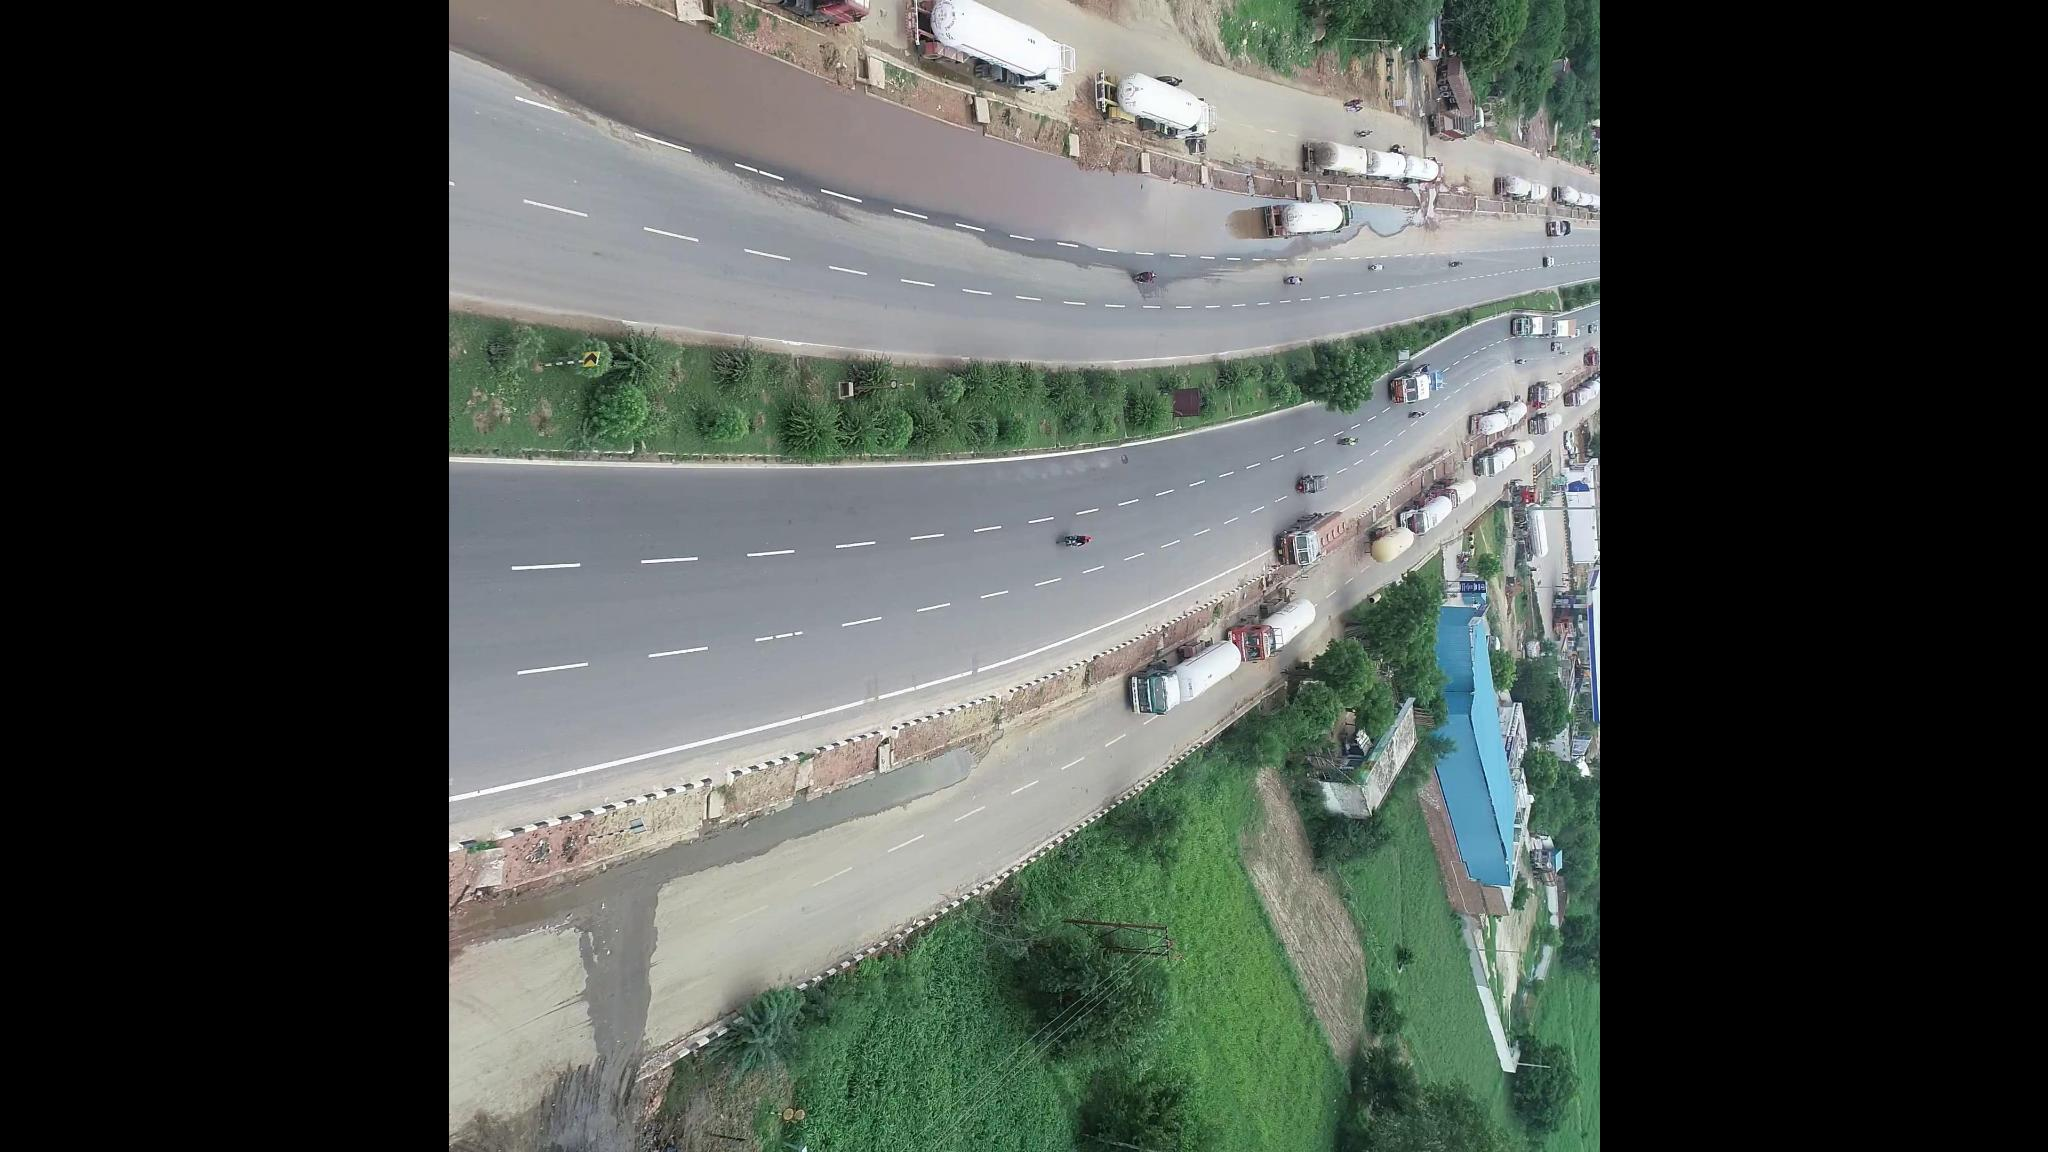Waterlogging: (461, 1, 779, 169), (788, 70, 1068, 233), (1082, 180, 1249, 286)
